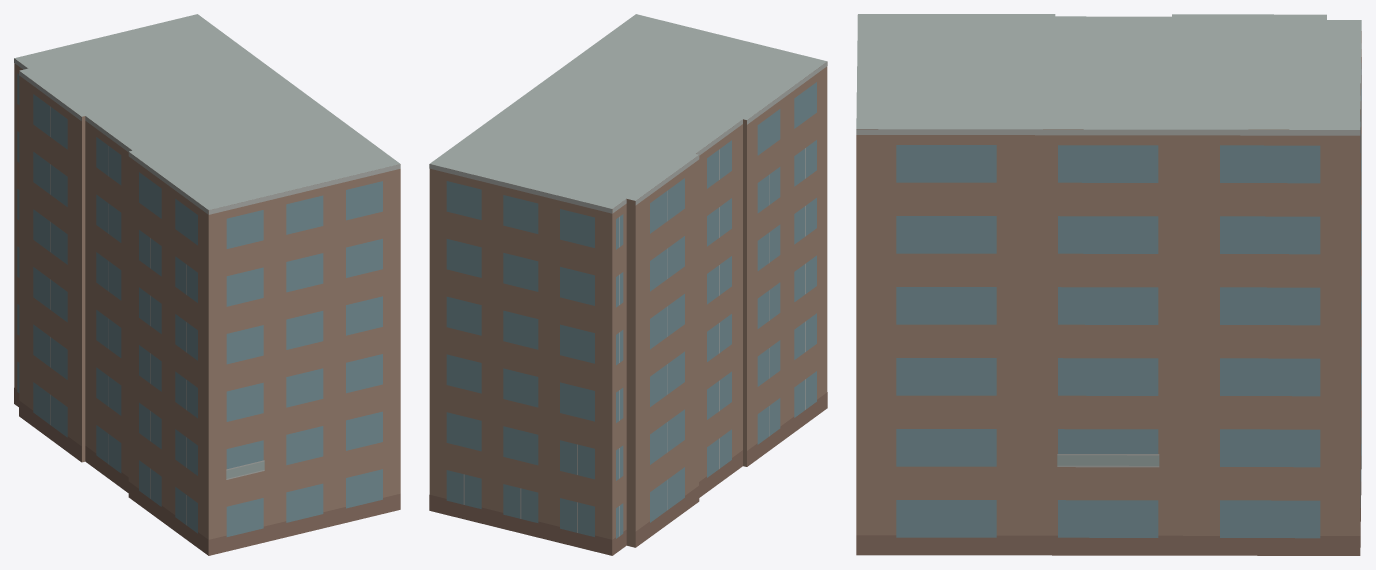
Rendered from survey-upis-33011971.glb.
3 views of the same model, side by side, from view 1: azimuth 30°, elevation 25°; view 2: azimuth 150°, elevation 25°; view 3: azimuth 270°, elevation 25° (orthographic). The views are drawn at different scales.
Parts seen in each view (by area): view 1: survey-upis-33011971.tmp; view 2: survey-upis-33011971.tmp; view 3: survey-upis-33011971.tmp.
Part boxes in pixels (bbox=[...]): survey-upis-33011971.tmp: bbox=[14, 14, 400, 555]; survey-upis-33011971.tmp: bbox=[429, 14, 827, 555]; survey-upis-33011971.tmp: bbox=[856, 14, 1361, 555].
Size of the model in its own units: 10.52 by 18 by 19.36.
